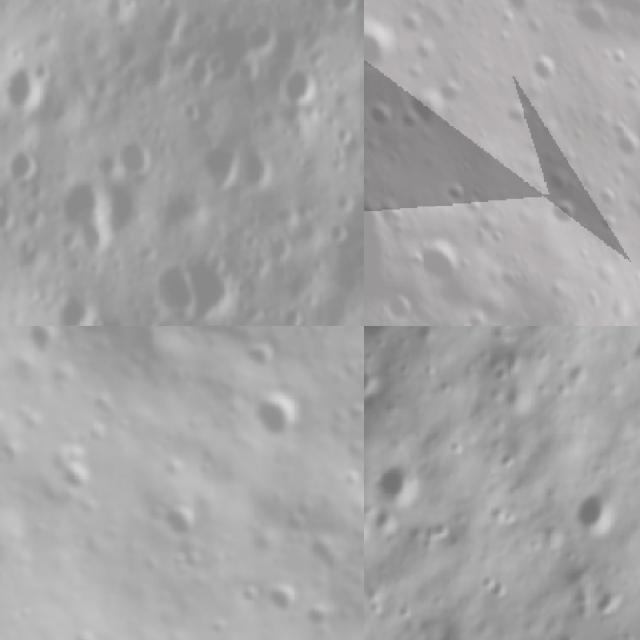crater: (0, 326, 364, 401), (239, 379, 313, 454), (556, 478, 630, 546), (364, 450, 434, 521), (41, 443, 103, 504), (52, 172, 108, 238), (152, 494, 211, 553), (294, 523, 352, 582), (0, 54, 52, 119), (416, 224, 470, 286), (144, 256, 193, 324), (0, 492, 35, 578), (196, 137, 241, 199), (364, 3, 402, 75), (526, 38, 572, 89), (280, 62, 328, 109), (166, 537, 212, 585), (263, 571, 306, 619), (235, 334, 280, 379), (294, 592, 338, 638), (236, 147, 278, 195), (54, 288, 103, 326), (547, 190, 589, 232), (11, 401, 52, 444), (116, 137, 154, 182), (0, 148, 42, 188), (20, 326, 66, 362), (151, 446, 190, 488), (364, 92, 402, 132), (382, 283, 416, 326), (233, 574, 268, 614), (286, 491, 320, 531), (624, 550, 640, 633), (609, 121, 640, 162), (0, 432, 27, 475), (604, 38, 638, 72), (332, 460, 363, 496), (442, 173, 473, 205), (277, 300, 312, 326), (497, 0, 543, 19), (112, 411, 134, 436), (79, 630, 119, 640)
